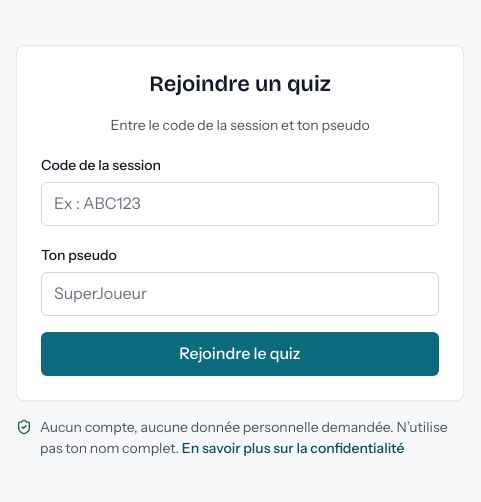
Scenario: Page « Rejoindre » : erreurs du join › 403 : explique que le participant a été exclu
The width and height of the screenshot is (481, 502).
Step 1. Type "ABC123" into the field labelled "Code de la session" → (240, 204), box 41,182 -> 439,226
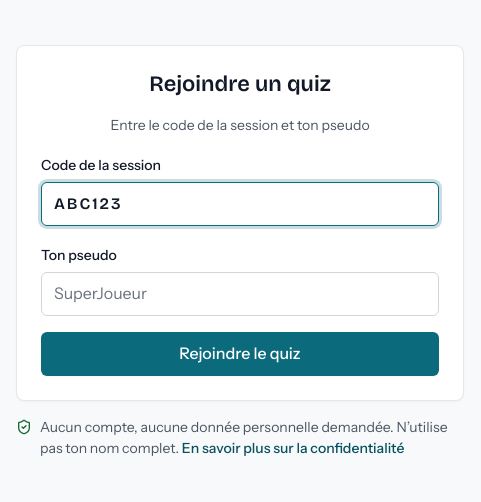
Step 2. Type "Alice" into the field labelled "Ton pseudo" → (240, 294), box 41,272 -> 439,316
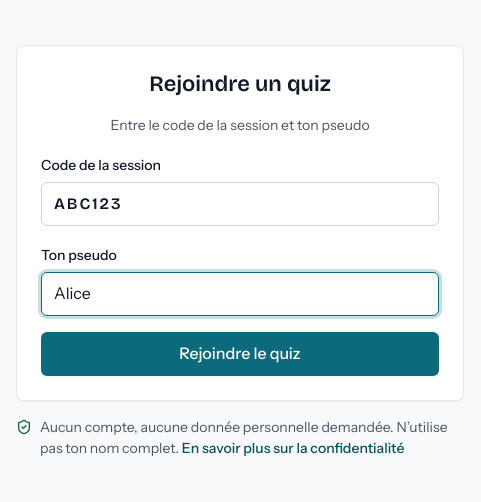
Step 3. Click the button "Rejoindre le quiz" → (240, 354), box 41,332 -> 439,376
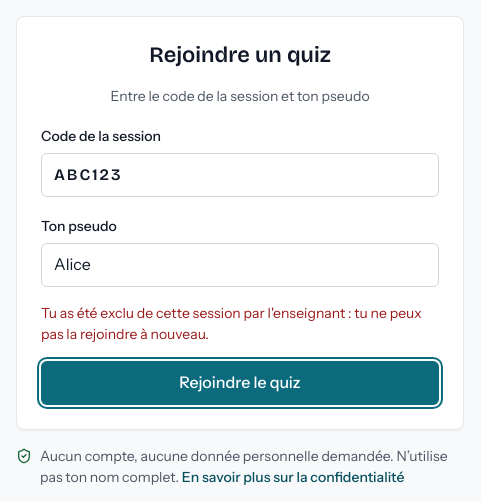
Result: the message shows "Tu as été exclu de cette session par l'enseignant : tu ne peux pas la rejoindre à nouveau." at 41,304 -> 422,343
